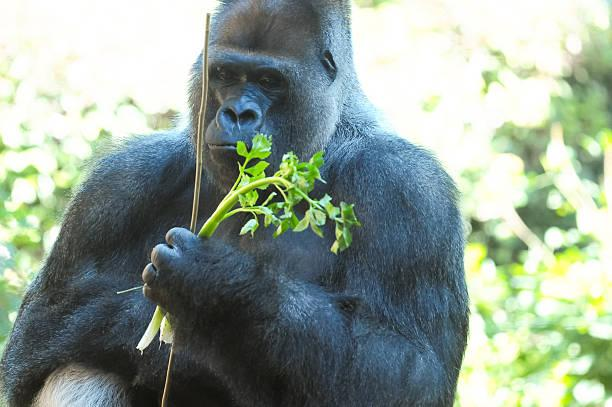gorille_Autres: (14, 0, 559, 407)
